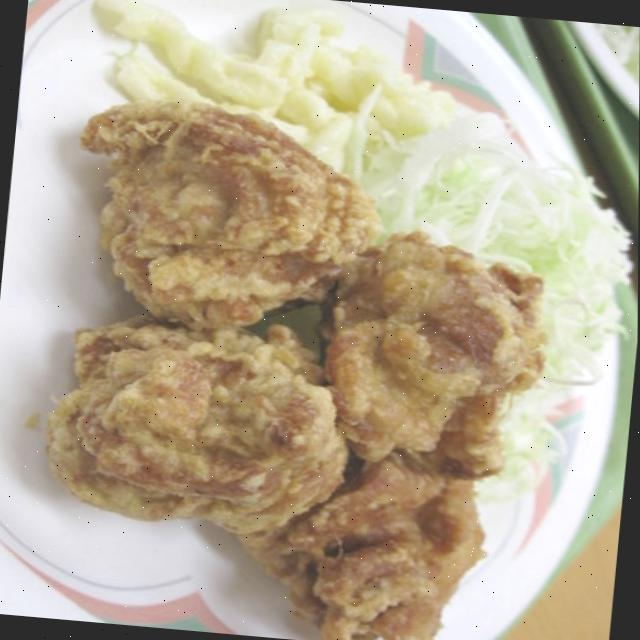鸡肉料理 含炸鸡: (0, 85, 584, 640)
